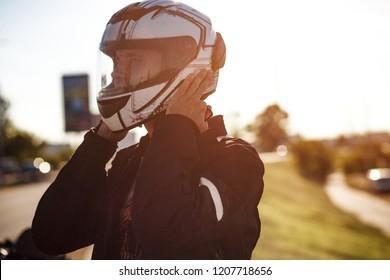Helmet: (95, 0, 233, 136)
